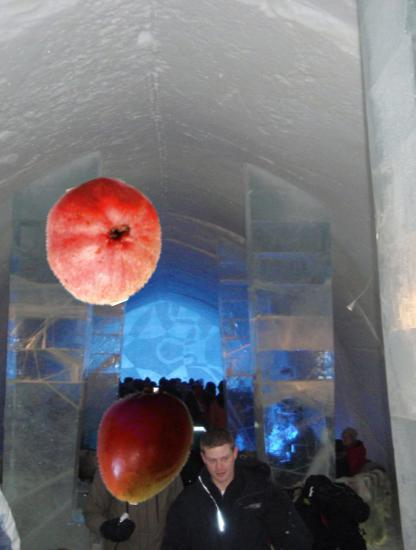Mango: (86, 387, 205, 506)
Pear: (42, 180, 167, 305)
